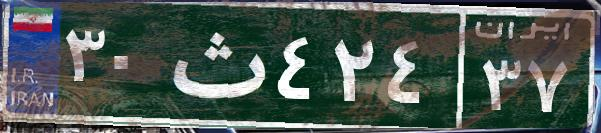0: (110, 28, 158, 105)
2: (330, 28, 385, 110)
3: (57, 26, 110, 107), (475, 38, 525, 113)
4: (385, 28, 445, 110), (273, 28, 330, 110)
7: (525, 38, 570, 115)
ث: (158, 15, 273, 115)
